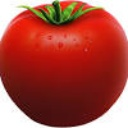tomato: (1, 3, 128, 128)
